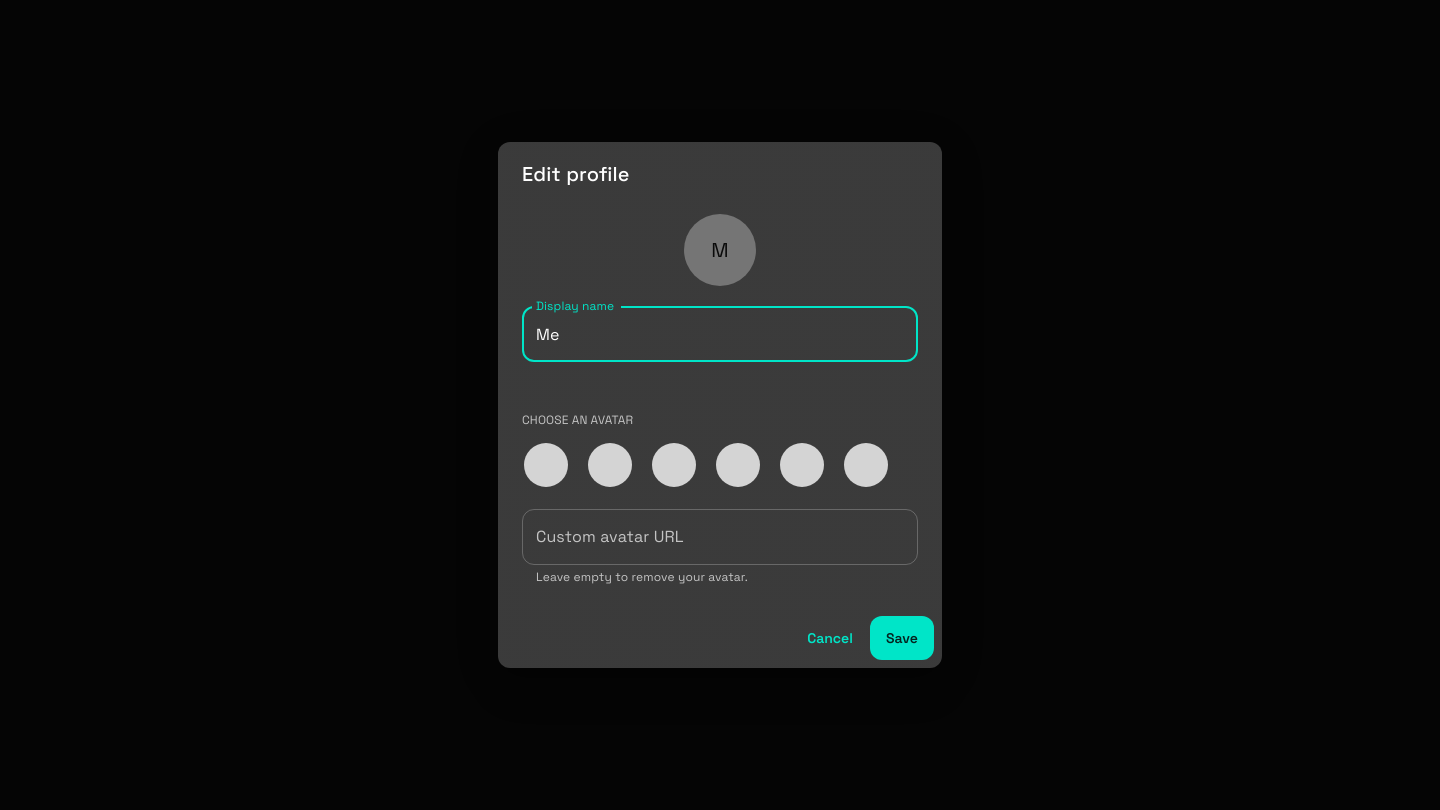
Scenario: EditProfileDialog › shows a validation error for an empty name and does not submit
Clear the field labelled "Display name": [720, 334] box [522,306,918,362]
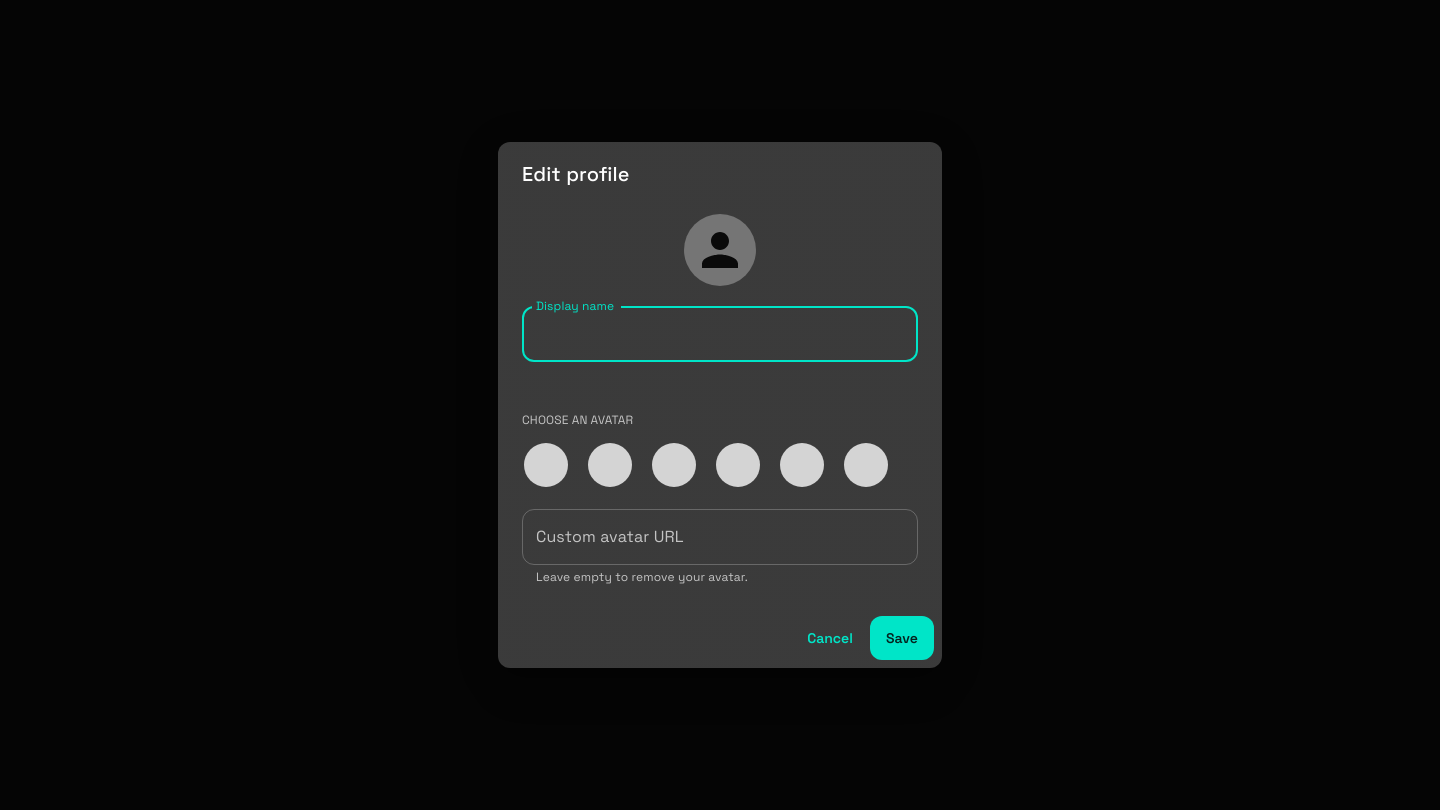
Click the button "Save": [902, 638] box [870,616,934,660]
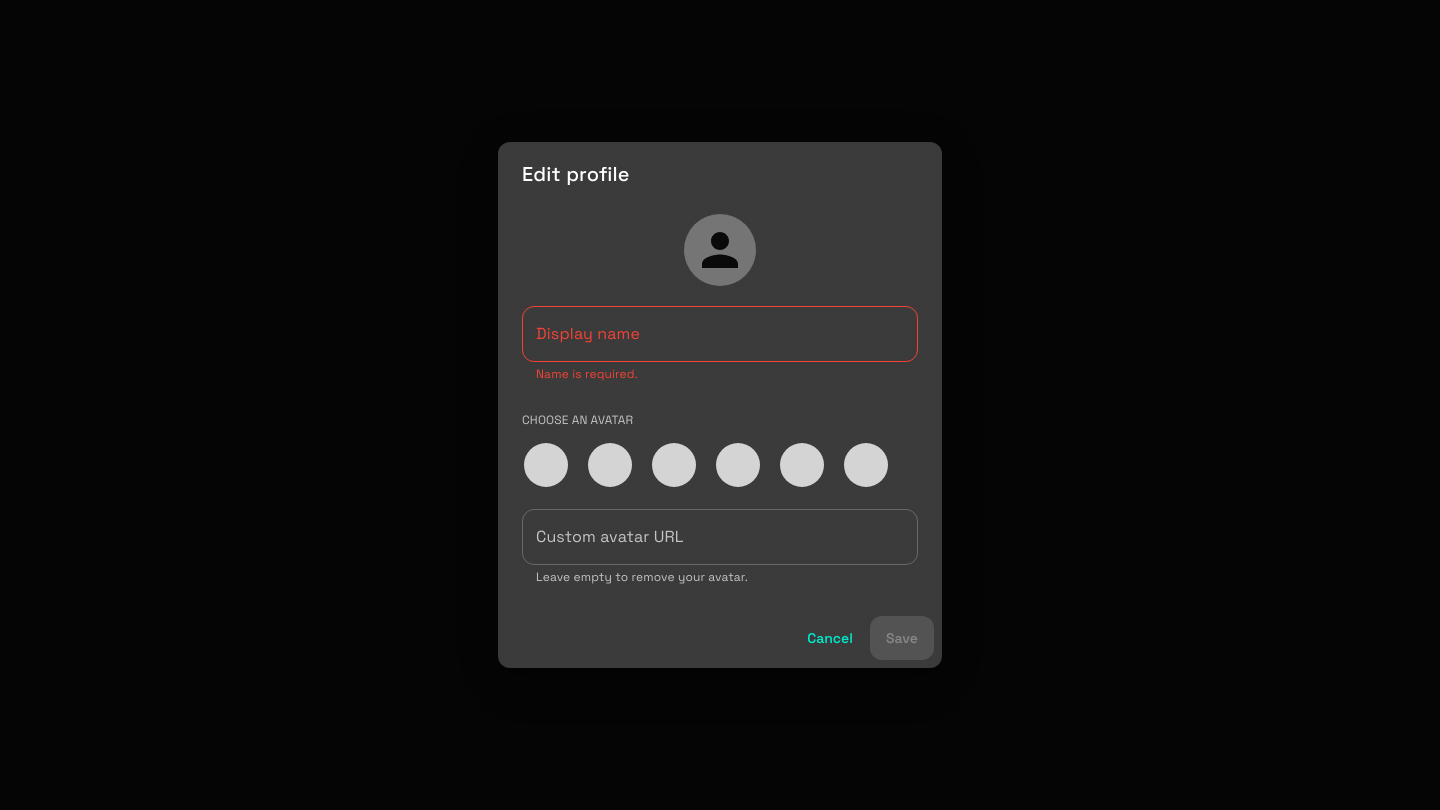
Result: the text "Name is required." is shown at [536,366,638,382]
